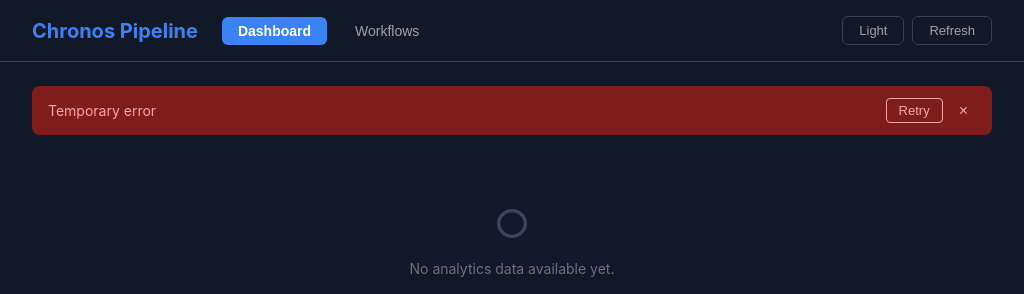
Test: App › dismisses error banner when clicking dismiss
This screenshot has width=1024, height=294.
Check: the message "Temporary error Retry ×" is shown, box [32,86,992,135]
Click the button named "Dismiss error" at (963, 110), box [951,98,976,123]
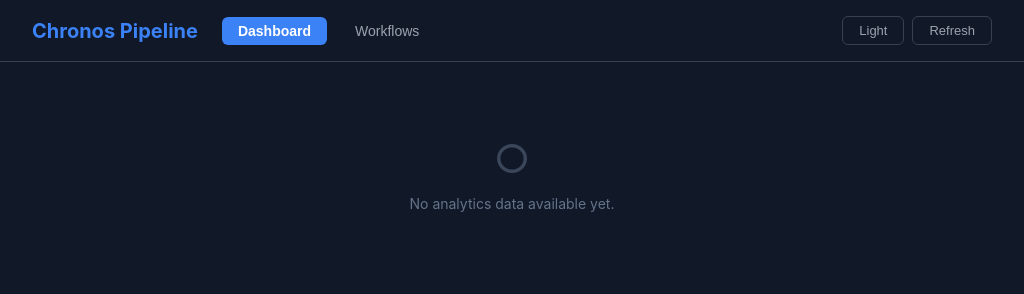
Check: the message "Temporary error Retry ×" is gone
